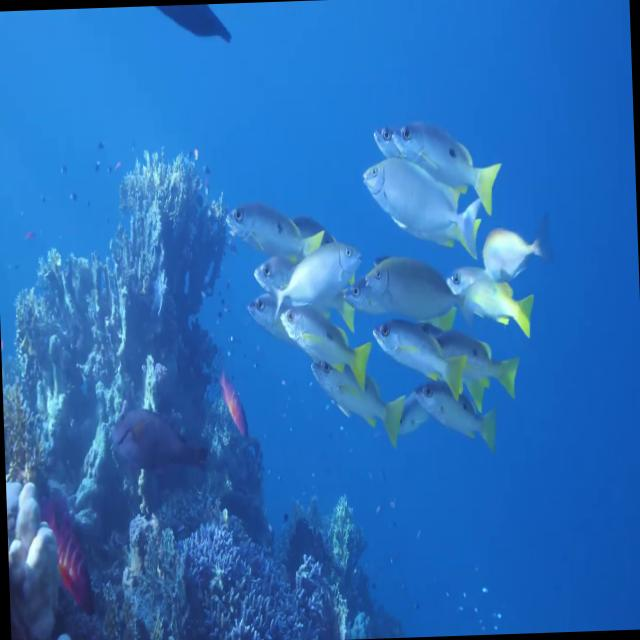fish: (361, 154, 482, 260), (390, 115, 506, 218), (310, 354, 399, 446), (372, 316, 462, 404), (280, 302, 367, 385), (271, 242, 361, 318), (228, 198, 322, 270), (362, 259, 463, 324), (418, 376, 491, 462), (476, 220, 550, 286), (453, 278, 533, 335)
